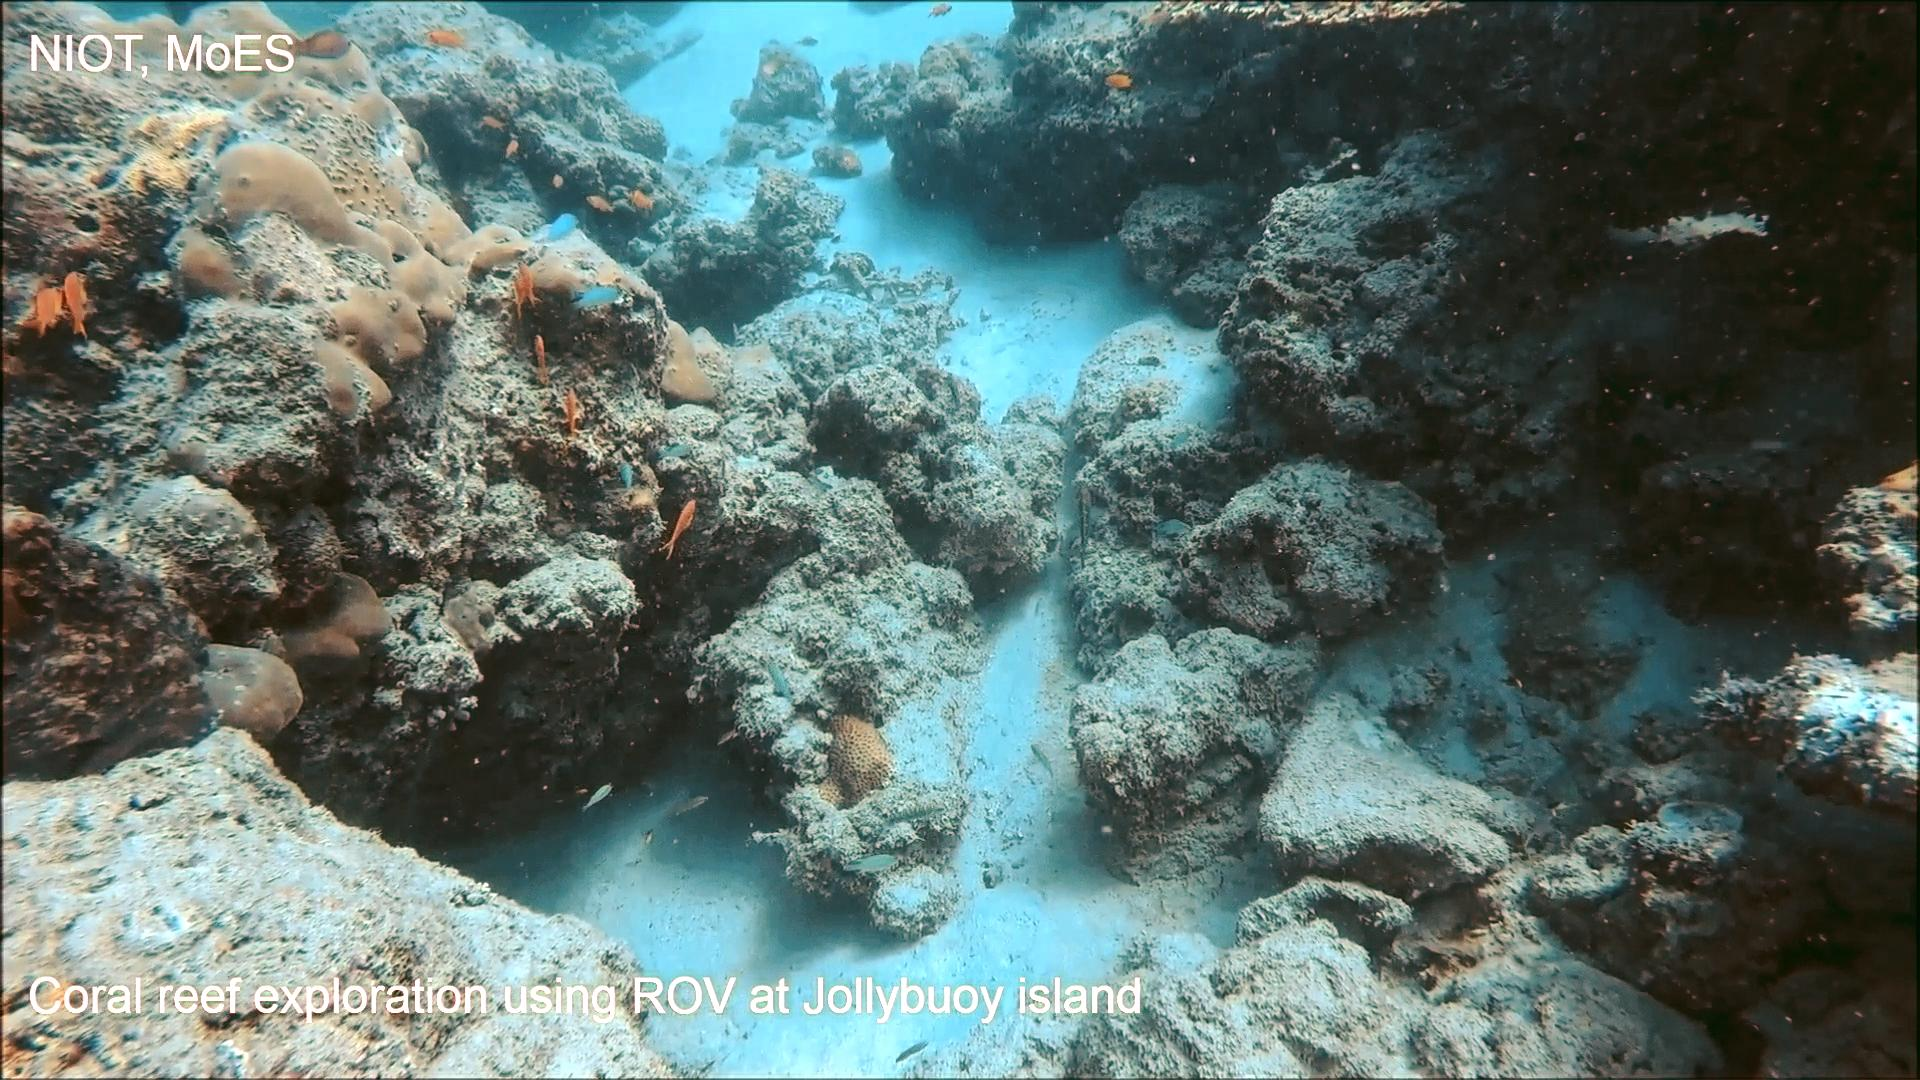Porites-Porites pukoensis: (153, 0, 533, 434)
